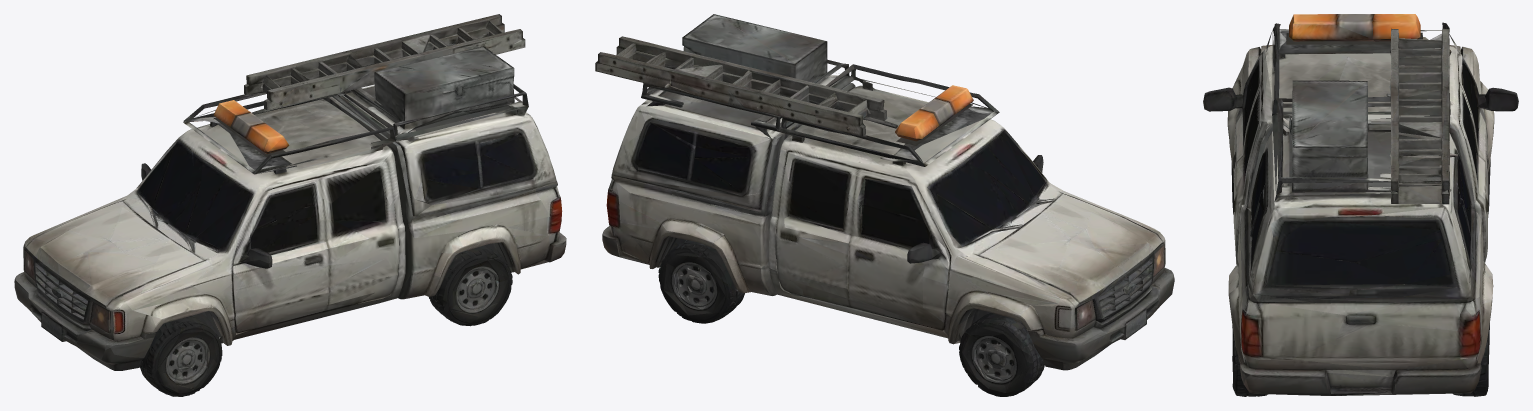
Rendered from network_ute.glb.
3 views of the same model, side by side, from view 1: azimuth 30°, elevation 25°; view 2: azimuth 150°, elevation 25°; view 3: azimuth 270°, elevation 25° (orthographic). The views are drawn at different scales.
Bounding box in the file's own units: 1.9 × 0.8527 × 0.8654.
Materials: 1 (1 with a texture image).
